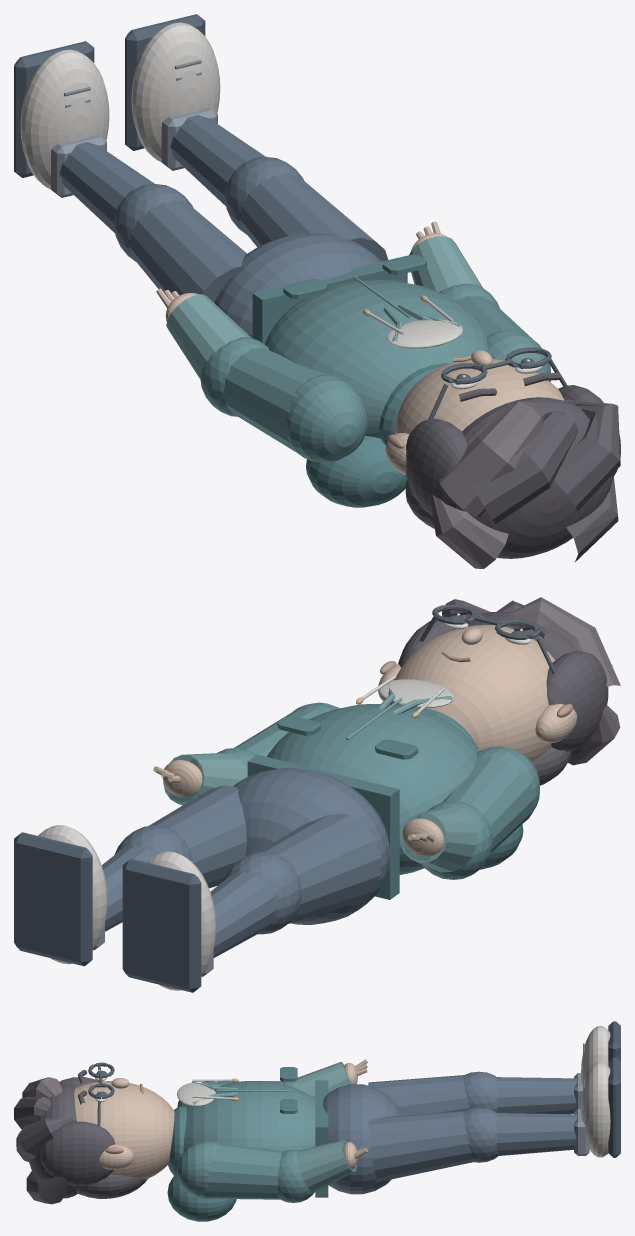
File: developer_turnLeft_0.glb
3 views of the same model, one above another, from view 1: azimuth 30°, elevation 25°; view 2: azimuth 150°, elevation 25°; view 3: azimuth 270°, elevation 25° (orthographic). The views are drawn at different scales.
Parts seen in each view (by area): view 1: 0000__hoodie_main_torso, 0046__jeans_thigh, 0050__sneaker, 0069__sneaker, 0014__pants_pelvis, 0022__hair_crown, 0065__jeans_thigh, 0017__face_head, 0056__hoodie_shoulder, 0057__sleeve_upper, 0026__hair_lock_0, 0027__hair_lock_1 (+21 smaller); view 2: 0000__hoodie_main_torso, 0017__face_head, 0051__rubber_sole, 0070__rubber_sole, 0014__pants_pelvis, 0046__jeans_thigh, 0065__jeans_thigh, 0057__sleeve_upper, 0024__temple_side, 0048__jeans_shin, 0015__hoodie_hem, 0047__knee_fold (+21 smaller); view 3: 0000__hoodie_main_torso, 0017__face_head, 0065__jeans_thigh, 0014__pants_pelvis, 0076__sleeve_upper, 0025__temple_side, 0067__jeans_shin, 0048__jeans_shin, 0046__jeans_thigh, 0069__sneaker, 0078__sleeve_forearm, 0075__hoodie_shoulder (+19 smaller).
Part boxes in pixels (x1=…): 0000__hoodie_main_torso: x1=264, y1=280, x2=488, y2=438; 0046__jeans_thigh: x1=128, y1=200, x2=246, y2=302; 0050__sneaker: x1=20, y1=49, x2=109, y2=189; 0069__sneaker: x1=131, y1=22, x2=220, y2=162; 0014__pants_pelvis: x1=214, y1=233, x2=381, y2=337; 0022__hair_crown: x1=462, y1=397, x2=612, y2=558; 0065__jeans_thigh: x1=239, y1=173, x2=388, y2=261; 0017__face_head: x1=395, y1=359, x2=564, y2=434; 0056__hoodie_shoulder: x1=286, y1=374, x2=367, y2=462; 0057__sleeve_upper: x1=223, y1=347, x2=328, y2=452; 0026__hair_lock_0: x1=439, y1=401, x2=544, y2=517; 0027__hair_lock_1: x1=472, y1=410, x2=578, y2=524; 0000__hoodie_main_torso: x1=267, y1=704, x2=478, y2=874; 0017__face_head: x1=390, y1=625, x2=554, y2=761; 0051__rubber_sole: x1=122, y1=858, x2=201, y2=992; 0070__rubber_sole: x1=14, y1=832, x2=92, y2=966; 0014__pants_pelvis: x1=233, y1=768, x2=390, y2=924; 0046__jeans_thigh: x1=257, y1=813, x2=381, y2=923; 0065__jeans_thigh: x1=149, y1=785, x2=246, y2=888; 0057__sleeve_upper: x1=441, y1=756, x2=535, y2=853; 0024__temple_side: x1=546, y1=651, x2=608, y2=751; 0048__jeans_shin: x1=210, y1=871, x2=276, y2=957; 0015__hoodie_hem: x1=247, y1=754, x2=399, y2=899; 0047__knee_fold: x1=223, y1=852, x2=301, y2=934; 0000__hoodie_main_torso: x1=183, y1=1081, x2=315, y2=1151; 0017__face_head: x1=74, y1=1081, x2=174, y2=1179; 0065__jeans_thigh: x1=368, y1=1111, x2=473, y2=1182; 0014__pants_pelvis: x1=322, y1=1084, x2=402, y2=1194; 0076__sleeve_upper: x1=205, y1=1142, x2=283, y2=1199; 0025__temple_side: x1=40, y1=1121, x2=115, y2=1185; 0067__jeans_shin: x1=496, y1=1113, x2=577, y2=1155; 0048__jeans_shin: x1=496, y1=1077, x2=577, y2=1114; 0046__jeans_thigh: x1=368, y1=1075, x2=470, y2=1115; 0069__sneaker: x1=581, y1=1062, x2=610, y2=1157; 0078__sleeve_forearm: x1=296, y1=1140, x2=356, y2=1192; 0075__hoodie_shoulder: x1=177, y1=1141, x2=219, y2=1198.
Size of the model in its own units: 0.764 by 0.5728 by 2.07.
